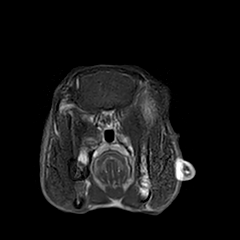Brain: (57, 41, 156, 139)
